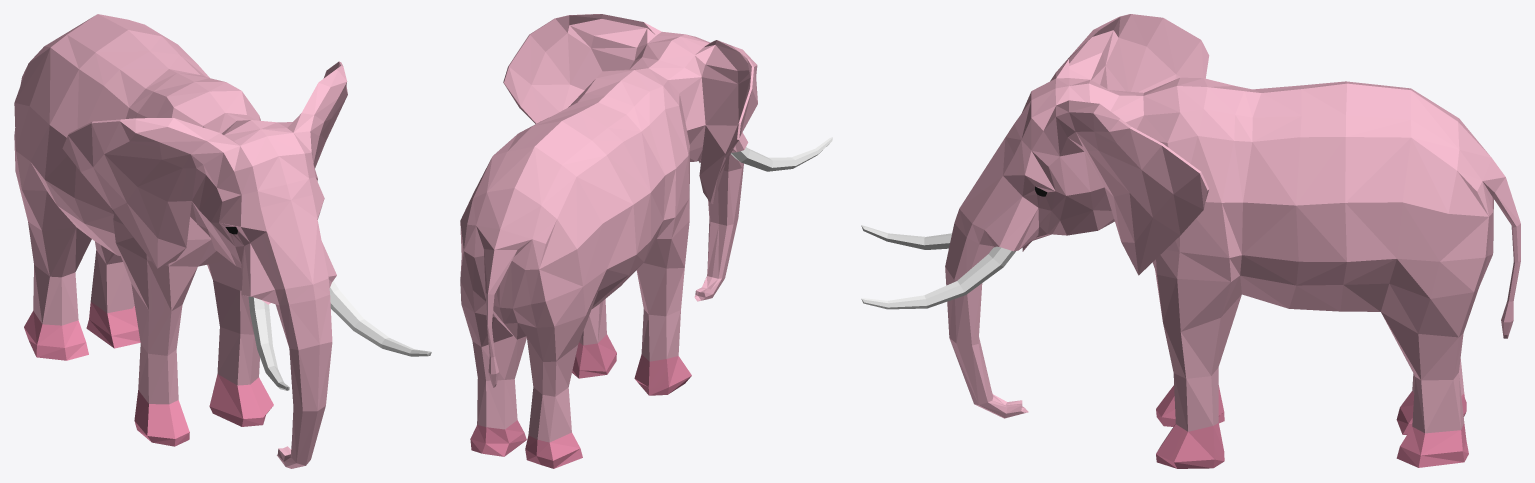
File: animal_008.fbx
The picture shows the model from 3 angles, left to right: view 1: azimuth 30°, elevation 25°; view 2: azimuth 150°, elevation 25°; view 3: azimuth 270°, elevation 25°; orthographic projection. The views are drawn at different scales.
Parts seen in each view (by area): view 1: animal.008; view 2: animal.008; view 3: animal.008.
Boxes of the visible parts, bbox=[...] form: animal.008: bbox=[14, 14, 431, 468]; animal.008: bbox=[460, 14, 832, 468]; animal.008: bbox=[861, 14, 1520, 468].
Bounding box in the file's own units: 494 × 638 × 1019.
1 material, 1 textured.
